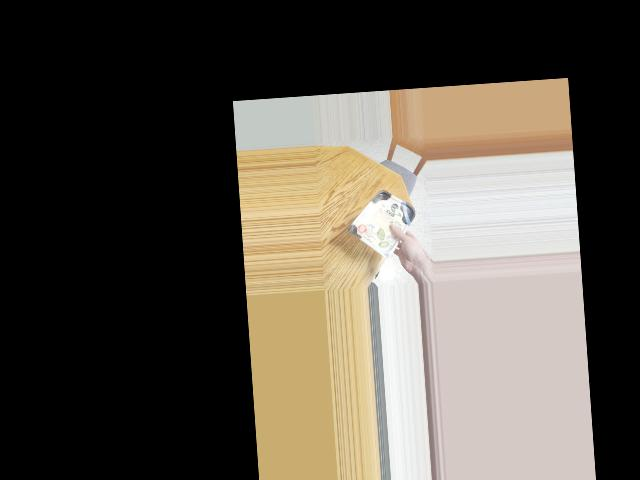cheese: (353, 187, 412, 248)
